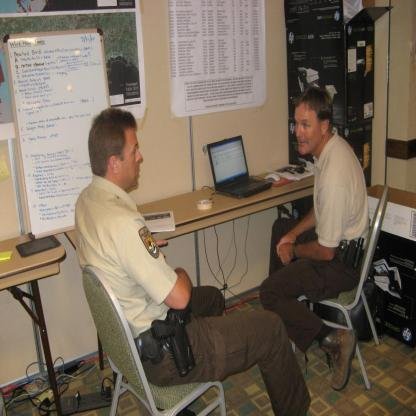board: (206, 131, 272, 199)
